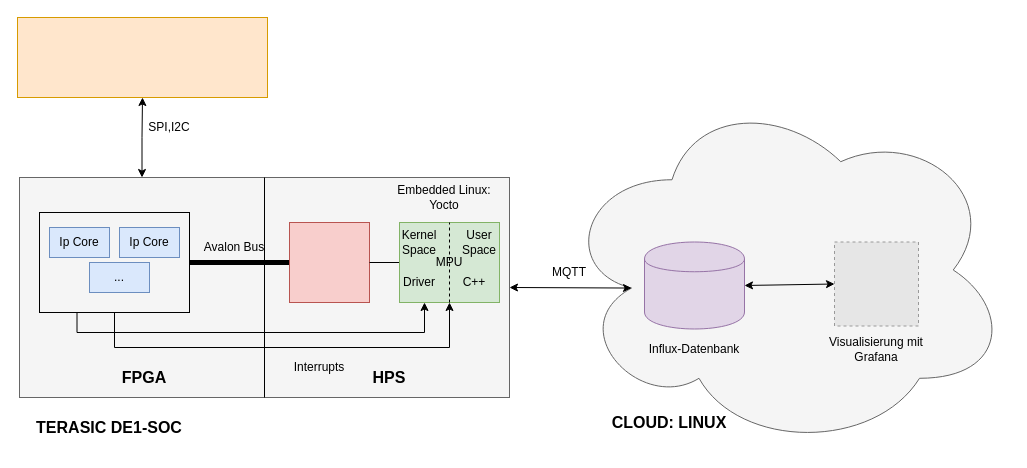
Image size: 1027x468. Some labels were removed from this diagram. Grey dashed boxes stand in for pictures. The shapes that lost their labels are listed below. From the top down, each one's centre as x and y in pixels, then its label:
(142,57): Sensorboard Terasic RS (Lichtsensor, Temperatursensor,..)
(329,262): AXI HPS FPGA BRIDGE
